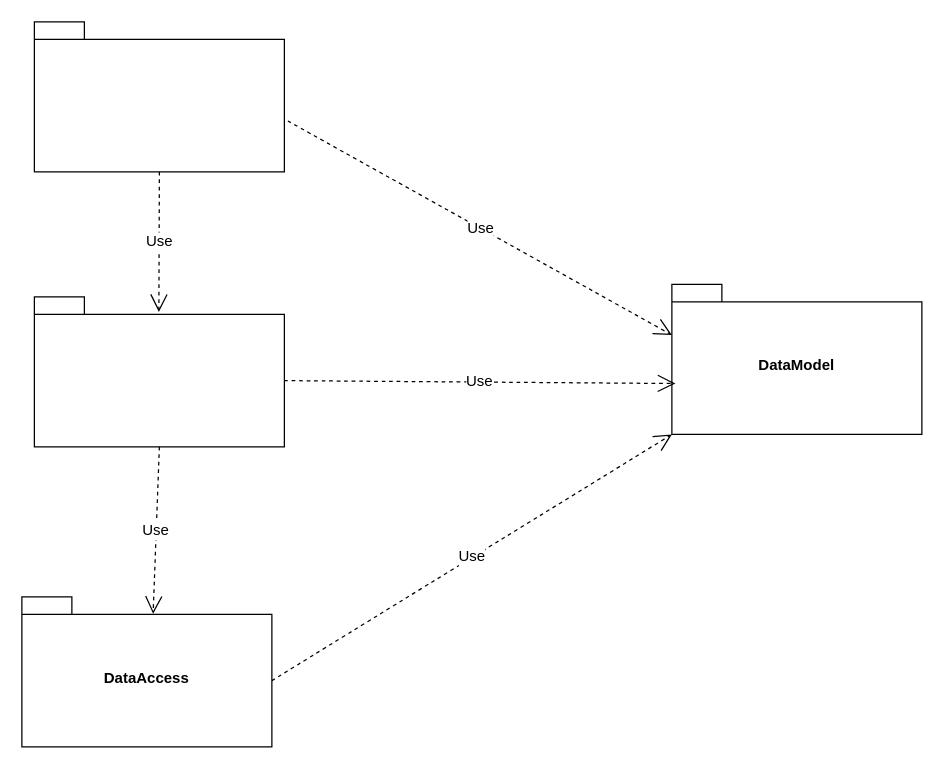
The diagram is 944 pixels wide and 769 high, and some of its shapes have lost their labels. Each missing label, with the box of its shape:
BusinessLogic: (33, 296, 284, 447)
GraphicalUserInterface: (33, 21, 284, 172)
